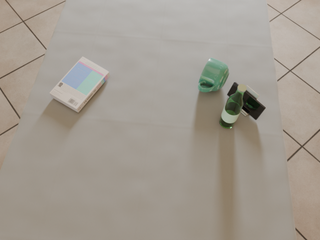book: (50, 57, 110, 112)
bottle: (220, 84, 246, 128)
cup: (198, 58, 229, 92)
phone: (227, 82, 266, 120)
